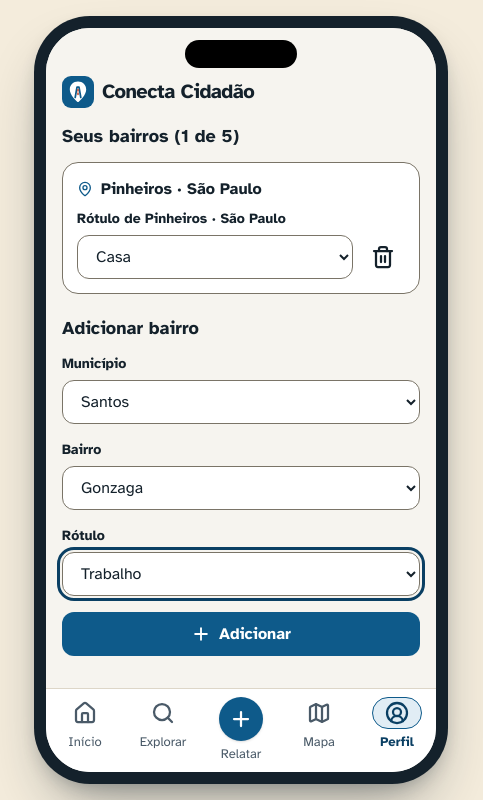
Test: bairros acompanhados › mostra o bairro inicial como Casa, adiciona com rótulo e remove
Earlier steps of the test are not shown.
(page scrolled)
Click the button "Adicionar" at (241, 634), box [62,612,420,656]
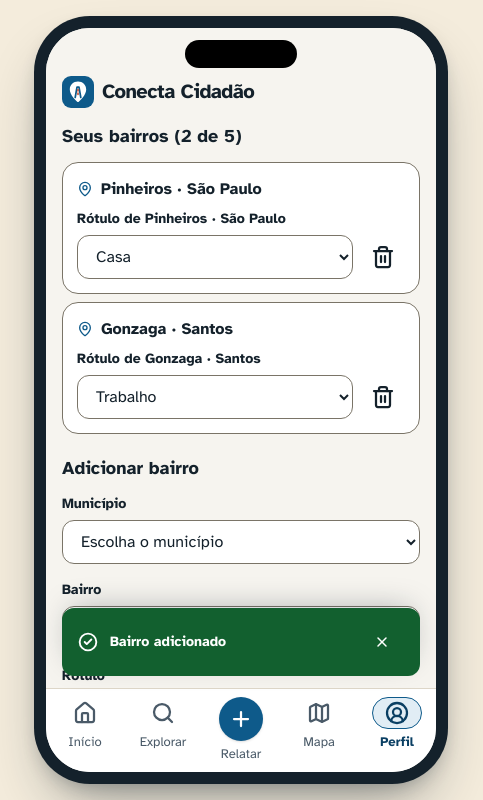
Check: the heading "Seus bairros (2 de 5)" is shown, box [62,125,242,147]
Check: the dropdown labelled "Rótulo de Gonzaga · Santos" shows "Trabalho", box [77,375,353,419]
Click the button named "Remover Gonzaga · Santos" at (383, 397), box [361,375,405,419]
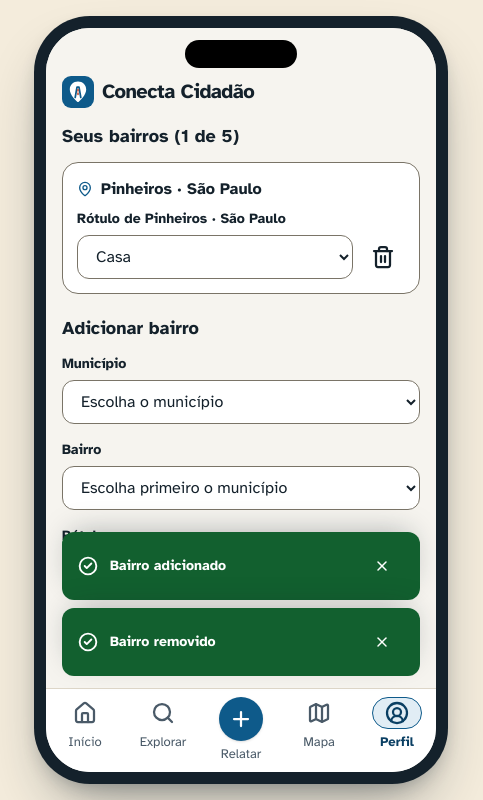
Check: the heading "Seus bairros (1 de 5)" is shown, box [62,125,239,147]
